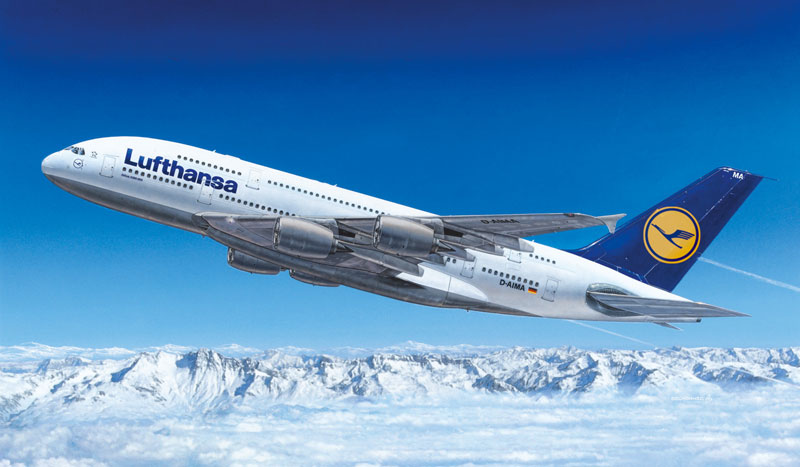Aeronef_commercial: (33, 127, 774, 340)
